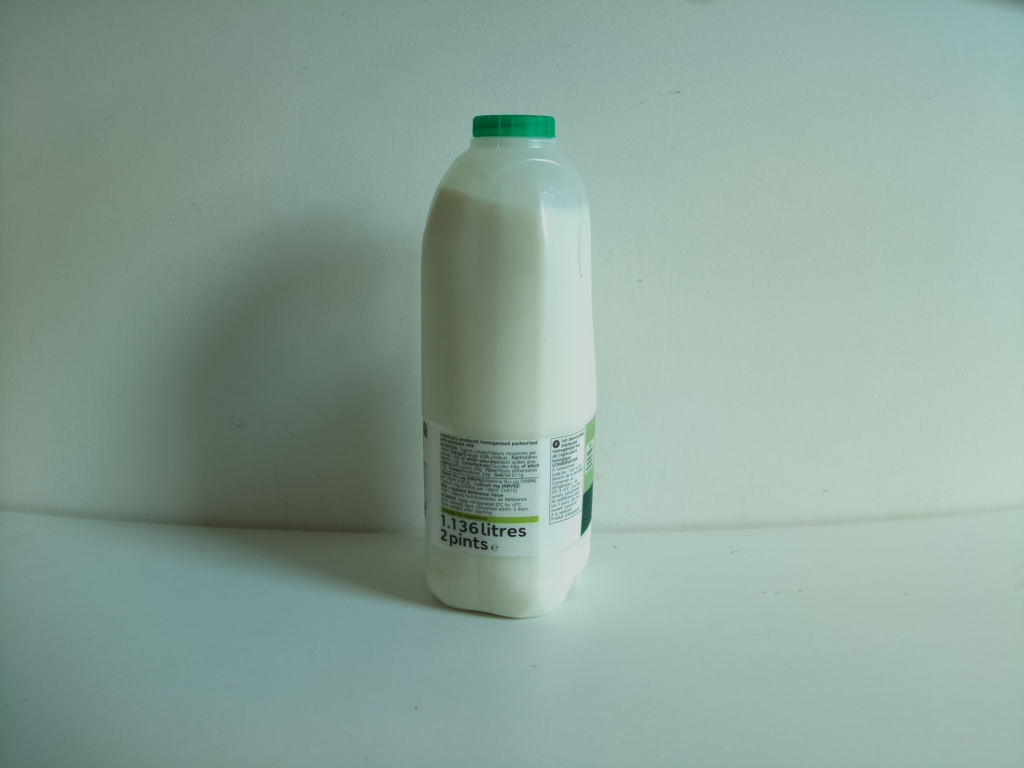milk: (419, 108, 603, 624)
